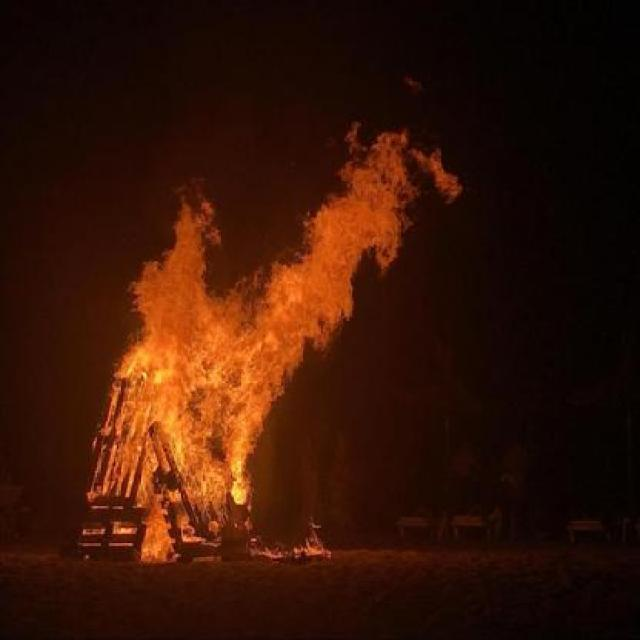Fire: (81, 124, 474, 566)
